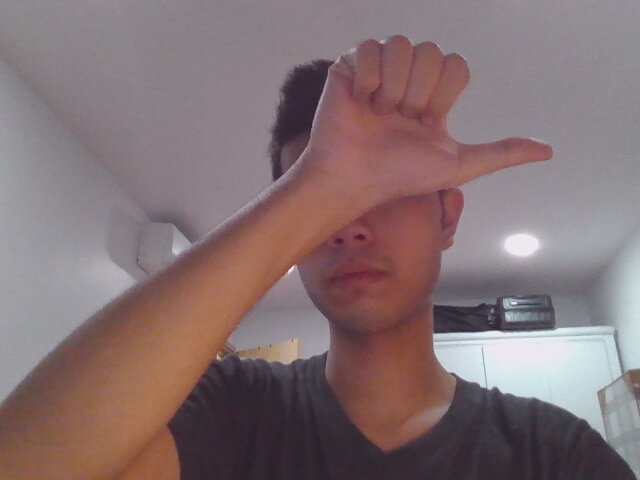left: (309, 36, 553, 166)
